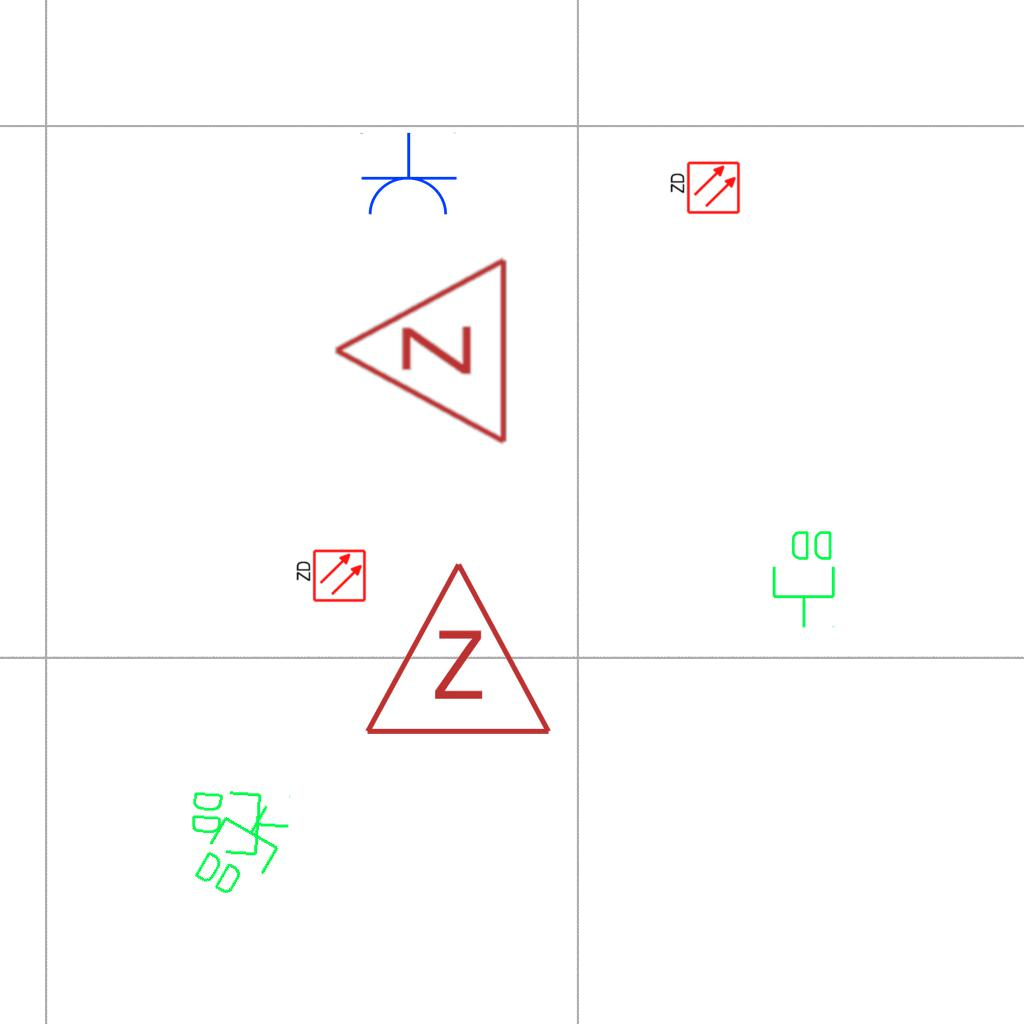Datenanschluss_zweifach: (185, 786, 298, 911), (185, 784, 294, 861), (770, 527, 839, 630)
Schukosteckdose_einfach: (358, 132, 458, 219)
ZD_Melder_in_Zwischendecke_mit_Revisionsoeffnung_mind_40_x_40_cm: (667, 160, 741, 217), (293, 548, 367, 605)
Zimmersignalleuchte: (321, 255, 521, 451), (358, 549, 554, 749)
